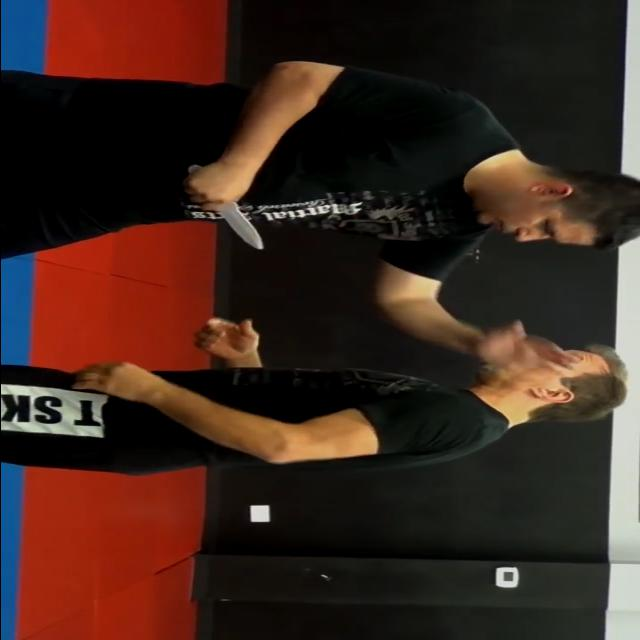knife: (180, 162, 270, 252)
